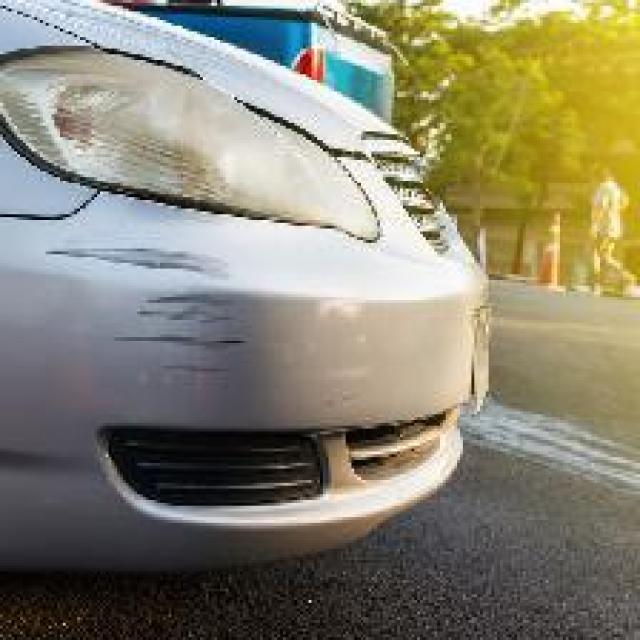bumper_scratch_minor: (57, 246, 246, 386)
